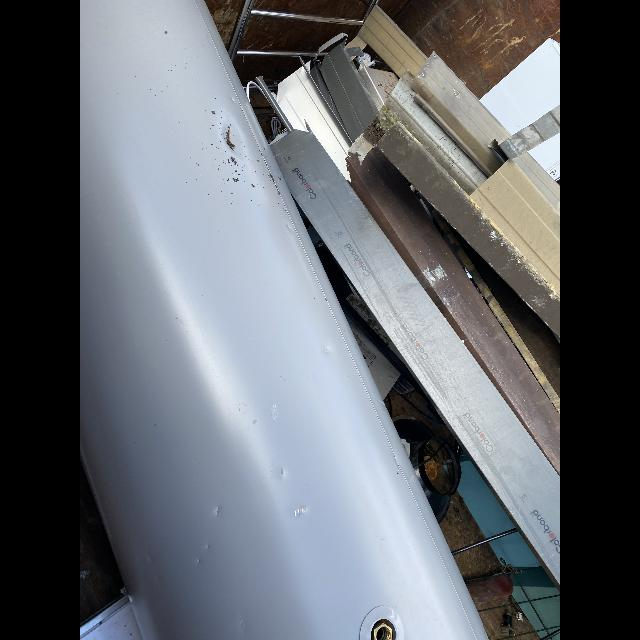Brass: (373, 623, 392, 640), (501, 626, 516, 637), (511, 638, 517, 640)
Ferrous Metal: (80, 0, 491, 640), (271, 119, 560, 594), (345, 51, 560, 474), (442, 452, 541, 566), (257, 57, 353, 171), (479, 39, 560, 136), (393, 415, 460, 524), (313, 33, 380, 141), (347, 5, 429, 79), (511, 567, 560, 640), (358, 65, 397, 112), (463, 573, 514, 607), (526, 132, 560, 182), (452, 539, 488, 556)
